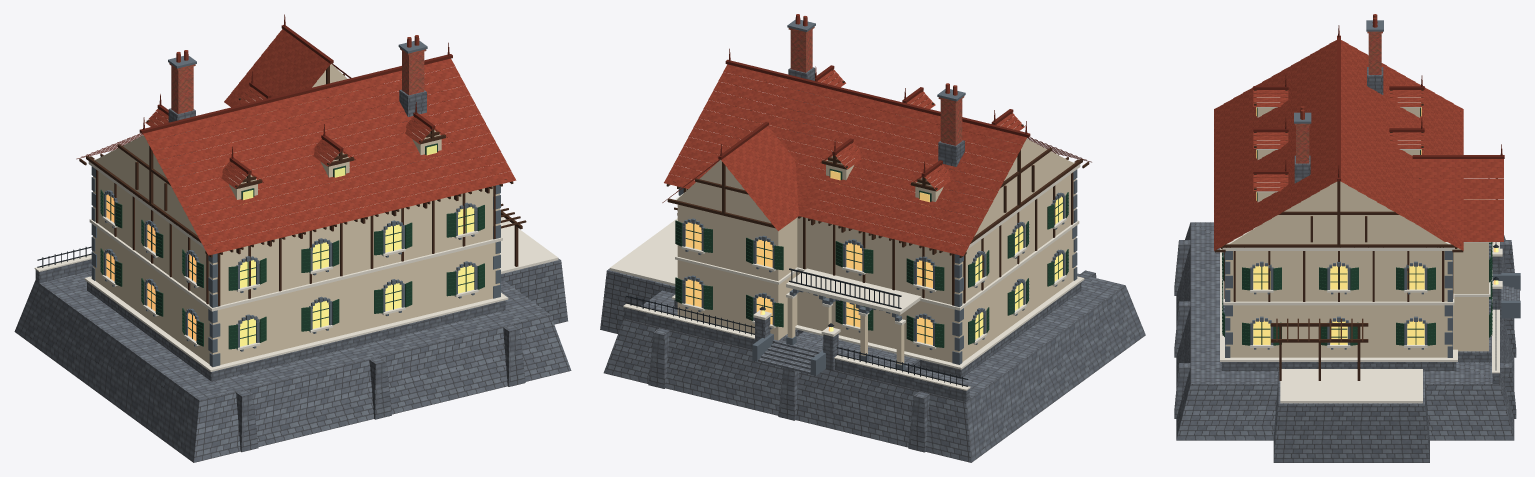
Rendered from fv_nd_05_mercure_nguyen_du_normandy_pool_villa.glb.
3 renders of one model, left to right at view 1: azimuth 30°, elevation 25°; view 2: azimuth 150°, elevation 25°; view 3: azimuth 270°, elevation 25°, orthographic. The views are drawn at different scales.
Visible parts, largest first — view 1: Foundation_Skirt_Neg3p5m, Normandy_Brittany_Layered_Roof, Villa_Stucco_Walls, Molded_Cornices_And_Sills, PineGreen_Louvered_Shutters, Stone_Quoins_And_Arches, Exposed_Timber_Trusses_And_Rafters, Warm_Night_Windows_20h00_Blend, Roof_Ridges_Caps_And_Finials, Brick_Chimney_Stacks; view 2: Foundation_Skirt_Neg3p5m, Normandy_Brittany_Layered_Roof, Villa_Stucco_Walls, Molded_Cornices_And_Sills, Stone_Quoins_And_Arches, PineGreen_Louvered_Shutters, Exposed_Timber_Trusses_And_Rafters, Warm_Night_Windows_20h00_Blend, Roof_Ridges_Caps_And_Finials, Wrought_Iron_Balustrades_And_Gate, Brick_Chimney_Stacks; view 3: Normandy_Brittany_Layered_Roof, Foundation_Skirt_Neg3p5m, Villa_Stucco_Walls, Molded_Cornices_And_Sills, Exposed_Timber_Trusses_And_Rafters, Stone_Quoins_And_Arches, PineGreen_Louvered_Shutters, Warm_Night_Windows_20h00_Blend, Roof_Ridges_Caps_And_Finials, Brick_Chimney_Stacks.
Part boxes in pixels (x1,y1,x2,y2): Foundation_Skirt_Neg3p5m: [14, 89, 571, 462]; Normandy_Brittany_Layered_Roof: [143, 29, 516, 255]; Villa_Stucco_Walls: [93, 64, 499, 364]; Molded_Cornices_And_Sills: [34, 94, 558, 371]; PineGreen_Louvered_Shutters: [100, 143, 484, 349]; Stone_Quoins_And_Arches: [91, 41, 500, 367]; Exposed_Timber_Trusses_And_Rafters: [79, 65, 526, 306]; Warm_Night_Windows_20h00_Blend: [106, 145, 474, 346]; Roof_Ridges_Caps_And_Finials: [76, 14, 452, 182]; Brick_Chimney_Stacks: [169, 48, 426, 113]; Foundation_Skirt_Neg3p5m: [600, 67, 1145, 462]; Normandy_Brittany_Layered_Roof: [664, 14, 1027, 255]; Villa_Stucco_Walls: [676, 97, 1076, 364]; Molded_Cornices_And_Sills: [609, 80, 1084, 390]; Stone_Quoins_And_Arches: [678, 19, 1077, 375]; PineGreen_Louvered_Shutters: [675, 168, 1068, 347]; Exposed_Timber_Trusses_And_Rafters: [666, 69, 1089, 305]; Warm_Night_Windows_20h00_Blend: [685, 170, 1062, 345]; Roof_Ridges_Caps_And_Finials: [662, 48, 1091, 202]; Wrought_Iron_Balustrades_And_Gate: [625, 268, 968, 386]; Brick_Chimney_Stacks: [788, 27, 964, 145]; Normandy_Brittany_Layered_Roof: [1214, 14, 1503, 250]; Foundation_Skirt_Neg3p5m: [1174, 67, 1519, 462]; Villa_Stucco_Walls: [1225, 107, 1488, 357]; Molded_Cornices_And_Sills: [1220, 97, 1502, 403]; Exposed_Timber_Trusses_And_Rafters: [1214, 90, 1497, 380]; Stone_Quoins_And_Arches: [1222, 20, 1520, 357]; PineGreen_Louvered_Shutters: [1222, 107, 1492, 345]; Warm_Night_Windows_20h00_Blend: [1253, 107, 1498, 344]; Roof_Ridges_Caps_And_Finials: [1253, 25, 1504, 181]; Brick_Chimney_Stacks: [1295, 31, 1382, 163].
Size of the model in its own units: 29.1 by 20.3 by 21.72.
12 materials, 3 textured.
